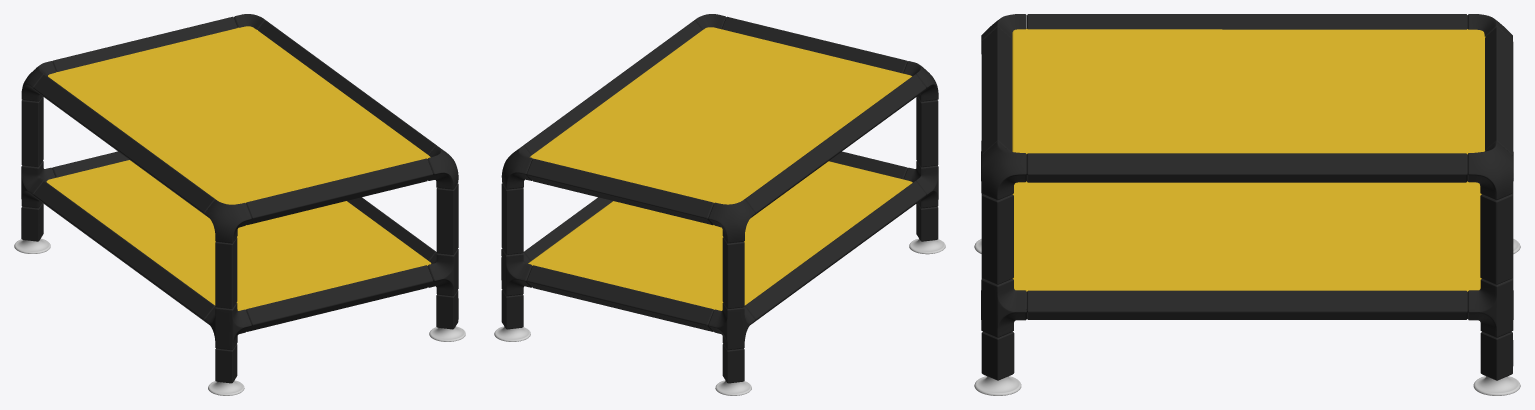
3 views of the same model, side by side, from view 1: azimuth 30°, elevation 25°; view 2: azimuth 150°, elevation 25°; view 3: azimuth 270°, elevation 25° (orthographic). The views are drawn at different scales.
Parts seen in each view (by area): view 1: 229x374x79; view 2: 229x374x79; view 3: 229x374x79.
Part boxes in pixels (bbox=[...]): 229x374x79: bbox=[14, 14, 465, 395]; 229x374x79: bbox=[494, 14, 945, 395]; 229x374x79: bbox=[974, 14, 1520, 395].
Bounding box in the file's own units: 0.3188 × 0.2184 × 0.4632.
